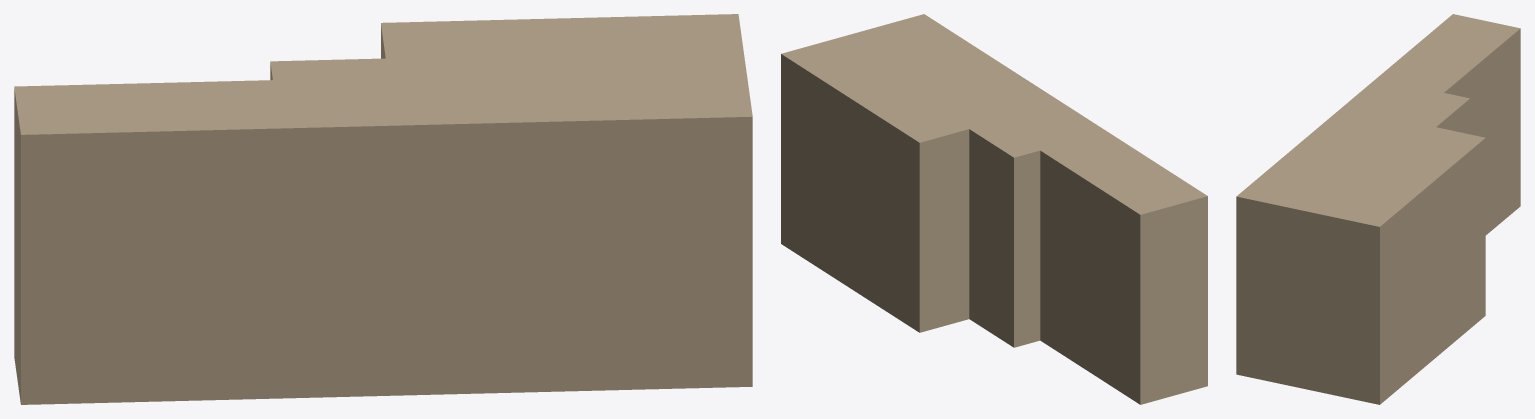
File: bld_101374800.dae
3 views of the same model, side by side, from view 1: azimuth 30°, elevation 25°; view 2: azimuth 150°, elevation 25°; view 3: azimuth 270°, elevation 25° (orthographic). The views are drawn at different scales.
Parts seen in each view (by area): view 1: bld_101374800; view 2: bld_101374800; view 3: bld_101374800.
Boxes of the visible parts, x1=… form: bld_101374800: x1=14, y1=14, x2=752, y2=404; bld_101374800: x1=781, y1=14, x2=1207, y2=404; bld_101374800: x1=1236, y1=14, x2=1520, y2=404.
Bounding box in the file's own units: 20.53 × 11.58 × 8.
